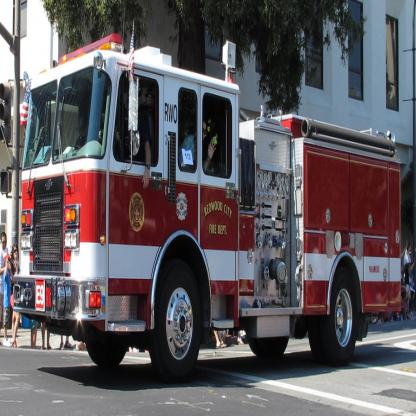Truck: (13, 8, 401, 384)
